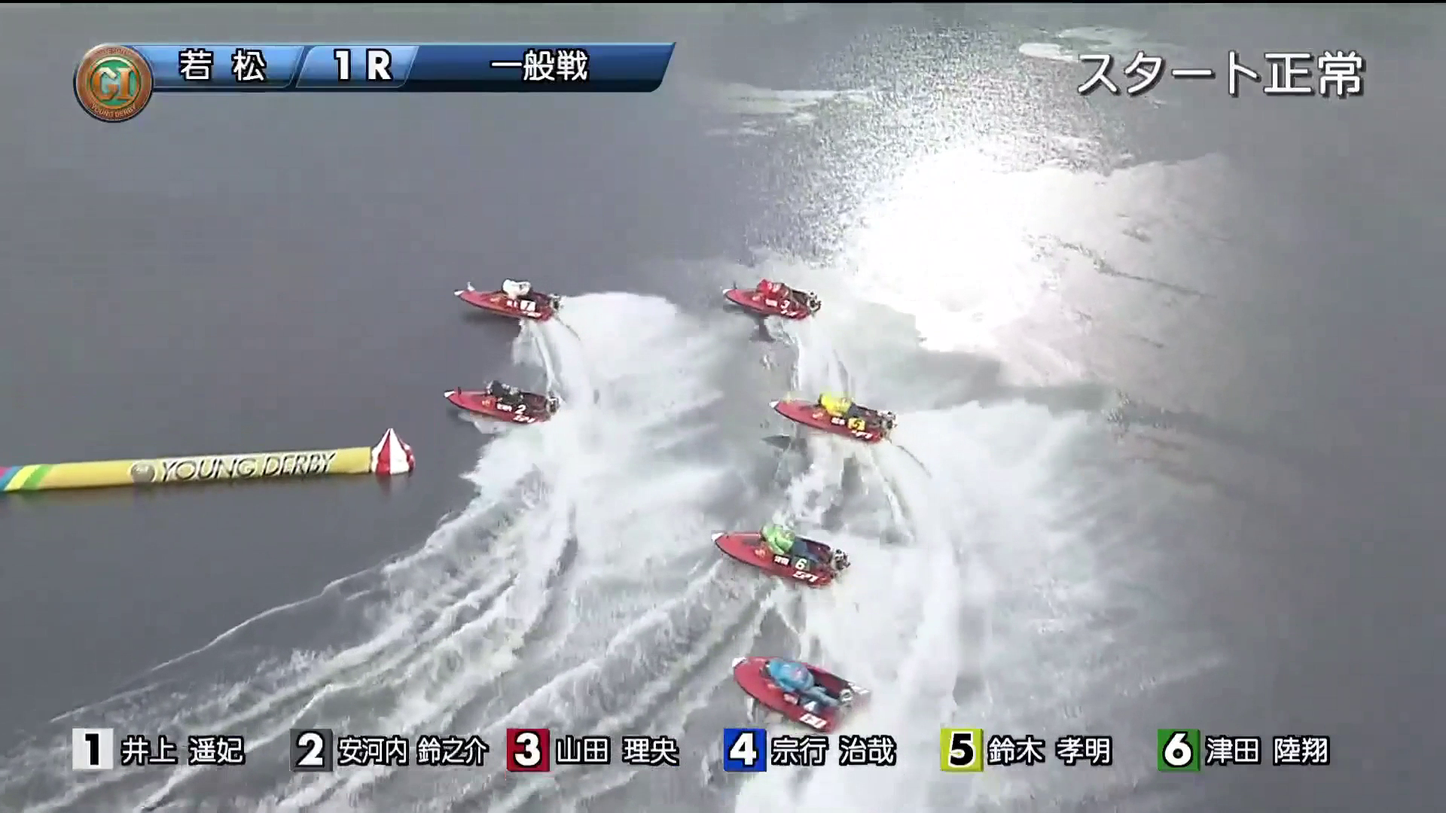１号艇: (471, 288, 541, 342)
２号艇: (432, 372, 561, 432)
３号艇: (718, 278, 816, 325)
４号艇: (712, 524, 846, 590)
５号艇: (736, 661, 859, 716)
６号艇: (771, 369, 871, 449)
